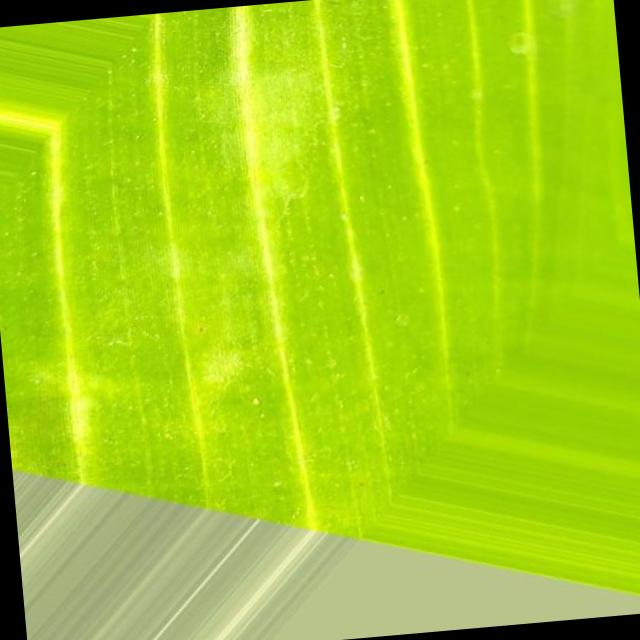Banana_Healthy: (166, 64, 557, 425)
